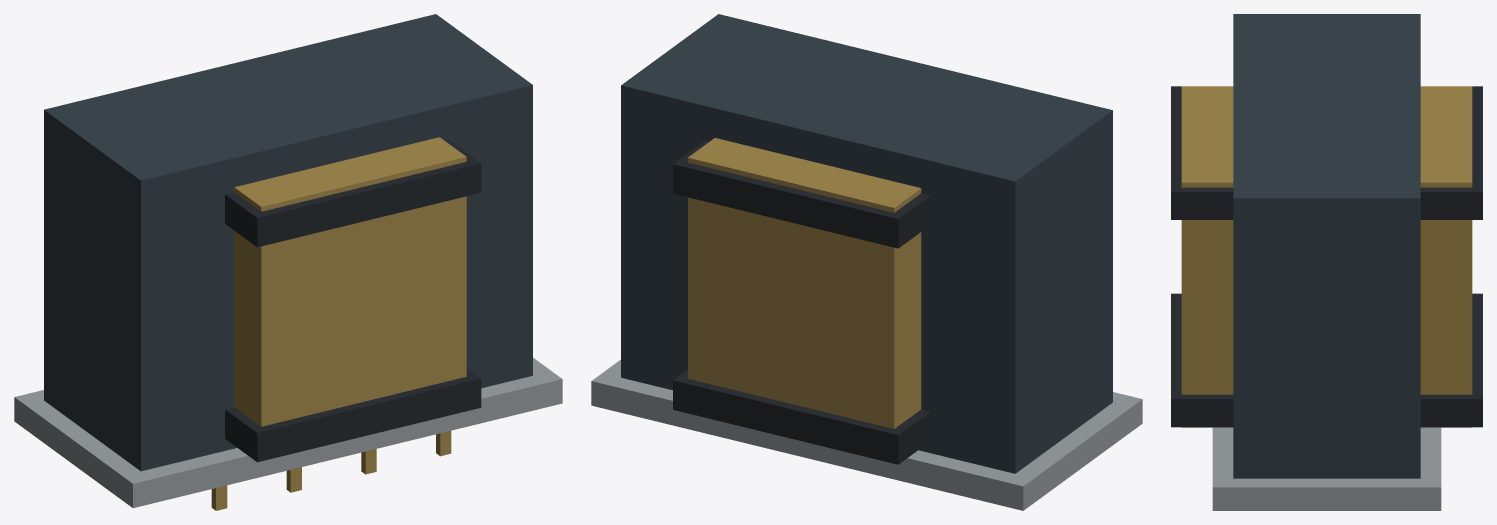
The model's file is cmp-transformer.glb.
The picture shows the model from 3 angles, left to right: view 1: azimuth 30°, elevation 25°; view 2: azimuth 150°, elevation 25°; view 3: azimuth 270°, elevation 25°; orthographic projection. The views are drawn at different scales.
Visible parts, largest first — view 1: STATIC_metal, STATIC_paint; view 2: STATIC_metal, STATIC_paint; view 3: STATIC_metal, STATIC_paint.
Part boxes in pixels (left/top/right/bottom): STATIC_metal: left=14, top=14, right=562, bottom=510; STATIC_paint: left=225, top=140, right=481, bottom=462; STATIC_metal: left=591, top=14, right=1142, bottom=510; STATIC_paint: left=673, top=140, right=930, bottom=464; STATIC_metal: left=1181, top=14, right=1472, bottom=510; STATIC_paint: left=1171, top=86, right=1482, bottom=427.
Bounding box in the file's own units: 0.046 × 0.036 × 0.03.
